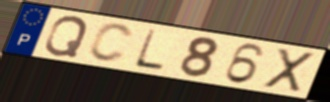6: (222, 42, 266, 86)
8: (178, 35, 222, 79)
C: (86, 22, 136, 65)
L: (131, 27, 167, 73)
Q: (42, 15, 91, 59)
X: (262, 47, 317, 94)
